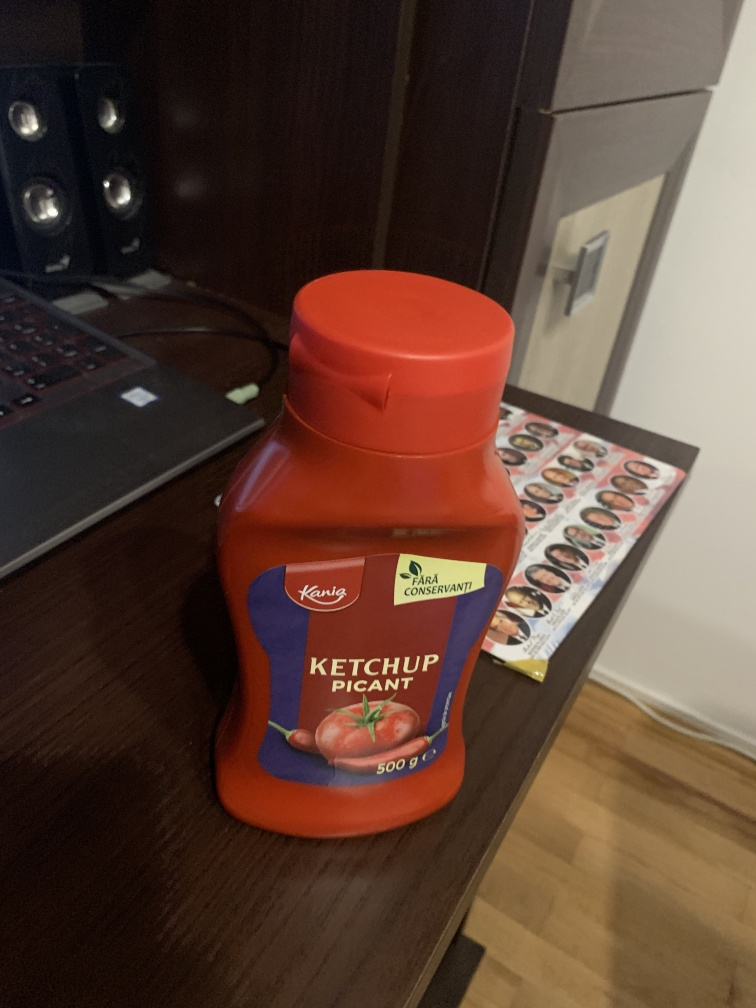ketchup: (202, 268, 532, 851)
